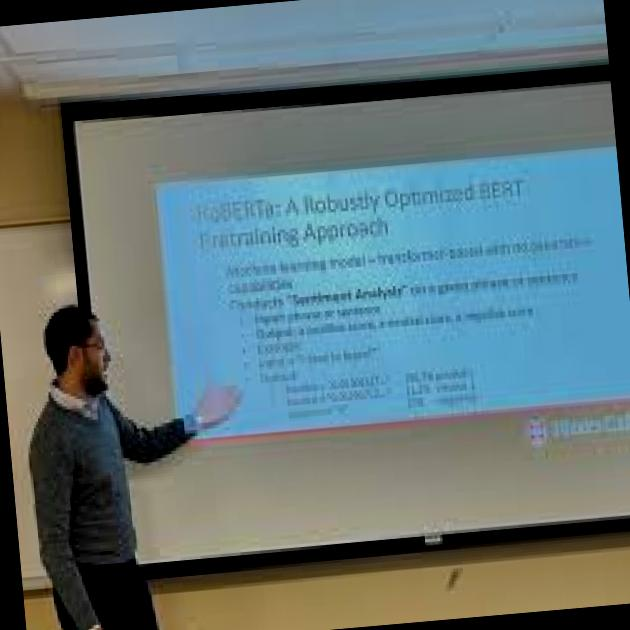projector: (33, 39, 630, 630)
